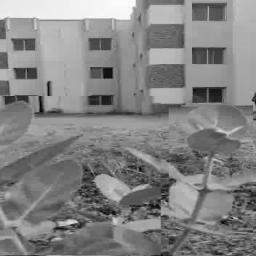Calotropis: (0, 96, 162, 255), (169, 105, 254, 256)
